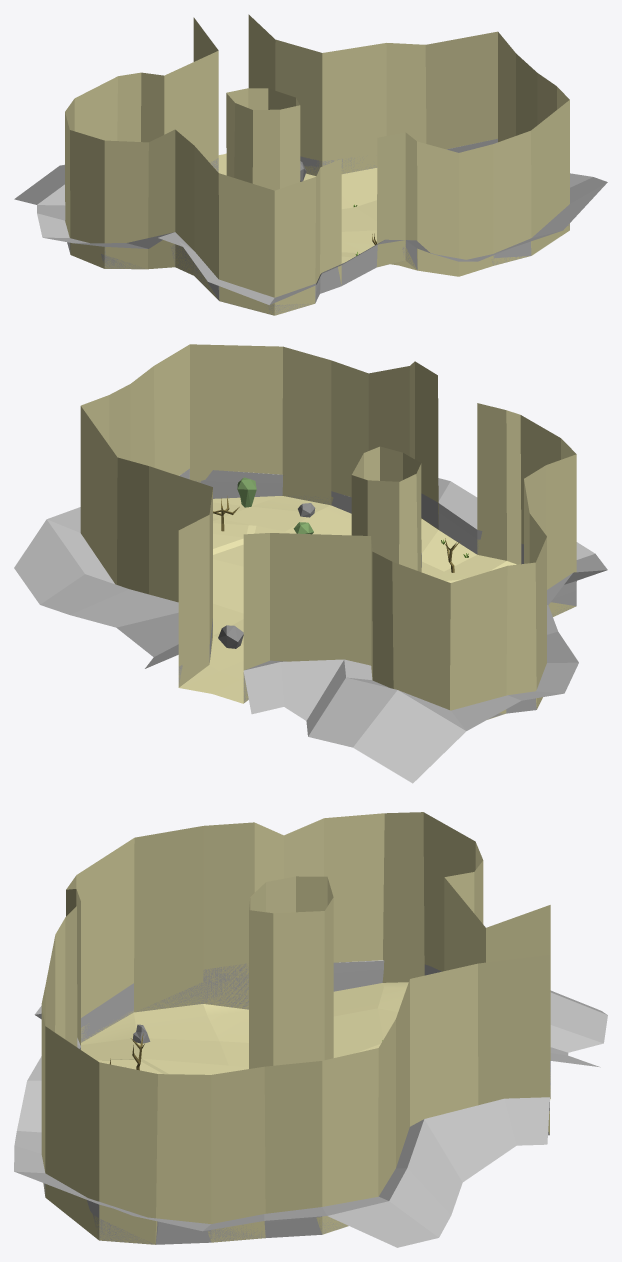
The picture shows the model from 3 angles, top to bottom: view 1: azimuth 30°, elevation 25°; view 2: azimuth 150°, elevation 25°; view 3: azimuth 270°, elevation 25°; orthographic projection. The views are drawn at different scales.
Visible parts, largest first — view 1: simple, level29; view 2: simple, level29; view 3: simple, level29.
Part boxes in pixels (box(x1,y1,x2,y2)): simple: box(65, 14, 569, 315); level29: box(14, 138, 607, 315); simple: box(80, 344, 576, 719); level29: box(14, 468, 607, 783); simple: box(41, 812, 550, 1244); level29: box(14, 960, 607, 1247).
Bounding box in the file's own units: 79.86 × 27.15 × 65.53.
